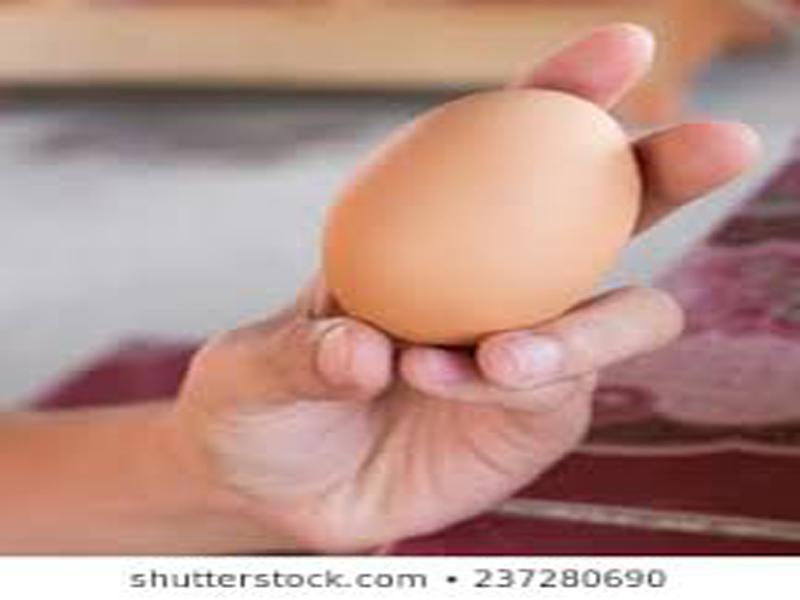Eggs: (326, 90, 644, 342)
